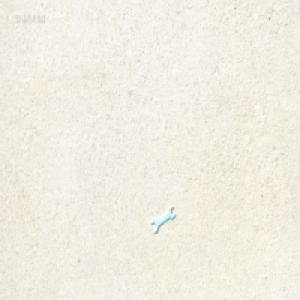Wrench: (152, 204, 177, 233)
